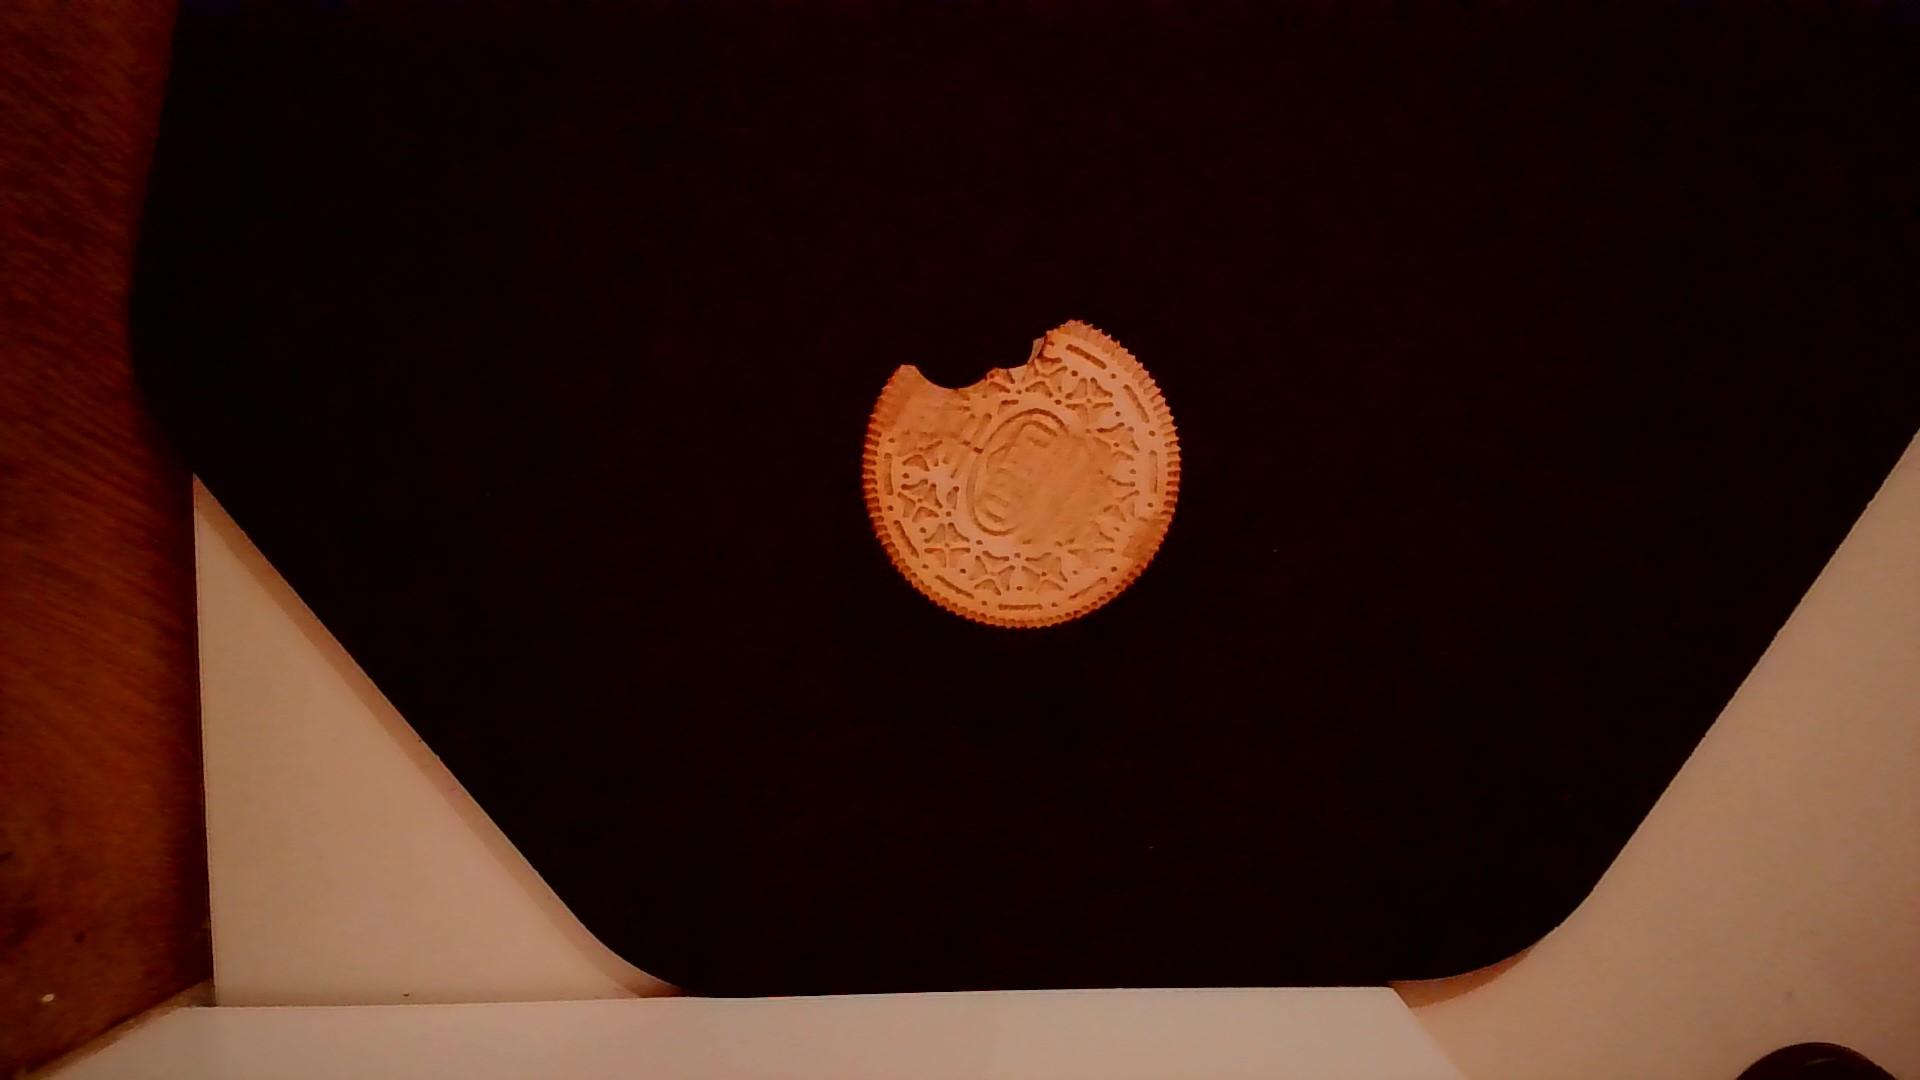Effacé: (997, 431, 1098, 542), (880, 384, 942, 448), (1120, 513, 1164, 562)
Mangé: (891, 316, 1073, 417)
Oréo: (853, 303, 1191, 636)
